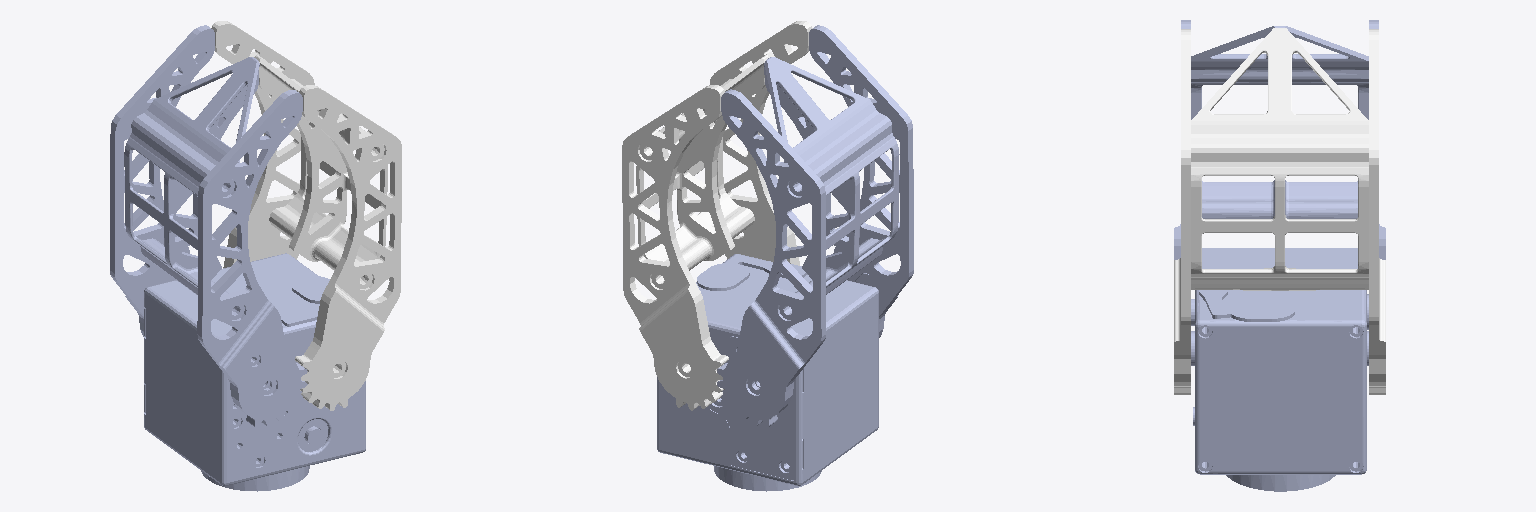
The robot description file, URDF, robot "gripper4":
<?xml version="1.0" encoding="utf-8"?>
<robot
  name="gripper4">
  <link
    name="base_link">
    <inertial>
      <origin
        xyz="-0.023531 -0.9743 0.031805"
        rpy="0 0 0" />
      <mass
        value="0.090444" />
      <inertia
        ixx="3.3873E-05"
        ixy="-7.5446E-07"
        ixz="4.9143E-07"
        iyy="2.568E-05"
        iyz="2.0521E-09"
        izz="2.1853E-05" />
    </inertial>
    <visual>
      <origin
        xyz="0 0 0"
        rpy="0 0 0" />
      <geometry>
        <mesh
          filename="package://gripper4/meshes/base_link.STL" />
      </geometry>
      <material
        name="">
        <color
          rgba="0.79216 0.81961 0.93333 1" />
      </material>
    </visual>
    <collision>
      <origin
        xyz="0 0 0"
        rpy="0 0 0" />
      <geometry>
        <mesh
          filename="package://gripper4/meshes/base_link.STL" />
      </geometry>
    </collision>
  </link>
  <link
    name="jaw_left">
    <inertial>
      <origin
        xyz="0.028325 0.030931 0.022724"
        rpy="0 0 0" />
      <mass
        value="0.035281" />
      <inertia
        ixx="1.8799E-05"
        ixy="1.8575E-07"
        ixz="-1.3686E-05"
        iyy="3.2532E-05"
        iyz="1.7384E-07"
        izz="1.5725E-05" />
    </inertial>
    <visual>
      <origin
        xyz="0 0 0"
        rpy="0 0 0" />
      <geometry>
        <mesh
          filename="package://gripper4/meshes/jaw_left.STL" />
      </geometry>
      <material
        name="">
        <color
          rgba="0.79216 0.81961 0.93333 1" />
      </material>
    </visual>
    <collision>
      <origin
        xyz="0 0 0"
        rpy="0 0 0" />
      <geometry>
        <mesh
          filename="package://gripper4/meshes/jaw_left.STL" />
      </geometry>
    </collision>
  </link>
  <joint
    name="motor_left_jaw"
    type="revolute">
    <origin
      xyz="-0.033807 -0.94485 0.042435"
      rpy="0 -0.71707 3.1416" />
    <parent
      link="base_link" />
    <child
      link="jaw_left" />
    <axis
      xyz="0 0 1" />
    <limit
      lower="0"
      upper="1.57"
      effort="25"
      velocity="1" />
  </joint>
  <link
    name="jaw_right">
    <inertial>
      <origin
        xyz="0 0 0"
        rpy="0 0 0" />
      <mass
        value="0" />
      <inertia
        ixx="0"
        ixy="0"
        ixz="0"
        iyy="0"
        iyz="0"
        izz="0" />
    </inertial>
    <visual>
      <origin
        xyz="0 0 0"
        rpy="0 0 0" />
      <geometry>
        <mesh
          filename="package://gripper4/meshes/jaw_right.STL" />
      </geometry>
      <material
        name="">
        <color
          rgba="1 1 1 1" />
      </material>
    </visual>
    <collision>
      <origin
        xyz="0 0 0"
        rpy="0 0 0" />
      <geometry>
        <mesh
          filename="package://gripper4/meshes/jaw_right.STL" />
      </geometry>
    </collision>
  </link>
  <joint
    name="follow_right_jaw"
    type="revolute">
    <origin
      xyz="-0.0094069 -0.94234 0.0425"
      rpy="1.5708 0.22743 0" />
    <parent
      link="base_link" />
    <child
      link="jaw_right" />
    <axis
      xyz="0 0 1" />
    <limit
      lower="0"
      upper="-1.57"
      effort="25"
      velocity="1" />
  </joint>
</robot>

--- Facts derived from the render (not from the file) ---
Views: 3 orthographic renders of the robot side by side, from view 1: azimuth 30°, elevation 25°; view 2: azimuth 150°, elevation 25°; view 3: azimuth 270°, elevation 25°.
Model gripper4 with 3 links and 2 joints (2 revolute), rooted at base_link, posed every joint at zero.
Visible links, largest first — view 1: jaw_left, jaw_right, base_link; view 2: jaw_left, jaw_right, base_link; view 3: base_link, jaw_right, jaw_left.
Boxes of the visible links, x1,y1,x2,y2 form: jaw_left: (110, 25, 307, 427); jaw_right: (211, 21, 401, 410); base_link: (144, 253, 365, 491); jaw_left: (717, 25, 913, 427); jaw_right: (622, 21, 812, 410); base_link: (657, 254, 878, 491); base_link: (1191, 248, 1368, 491); jaw_right: (1174, 28, 1385, 394); jaw_left: (1174, 20, 1385, 325).
Size in the robot's own frame: 0.0699 by 0.0602 by 0.1376 metres.
Meshes: 3 distinct files referenced, 3 mesh visuals loaded (3 binary STL).
